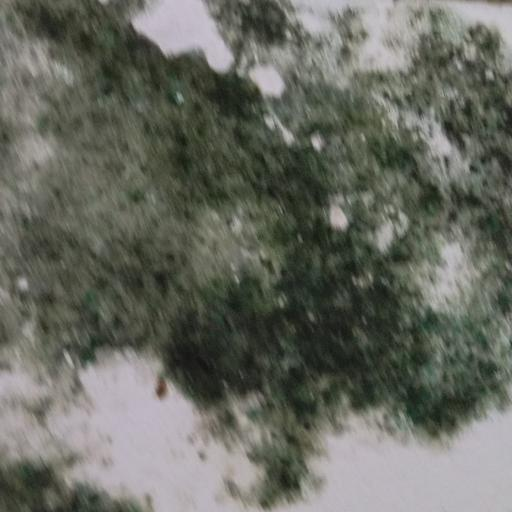algae: (1, 0, 511, 485)
